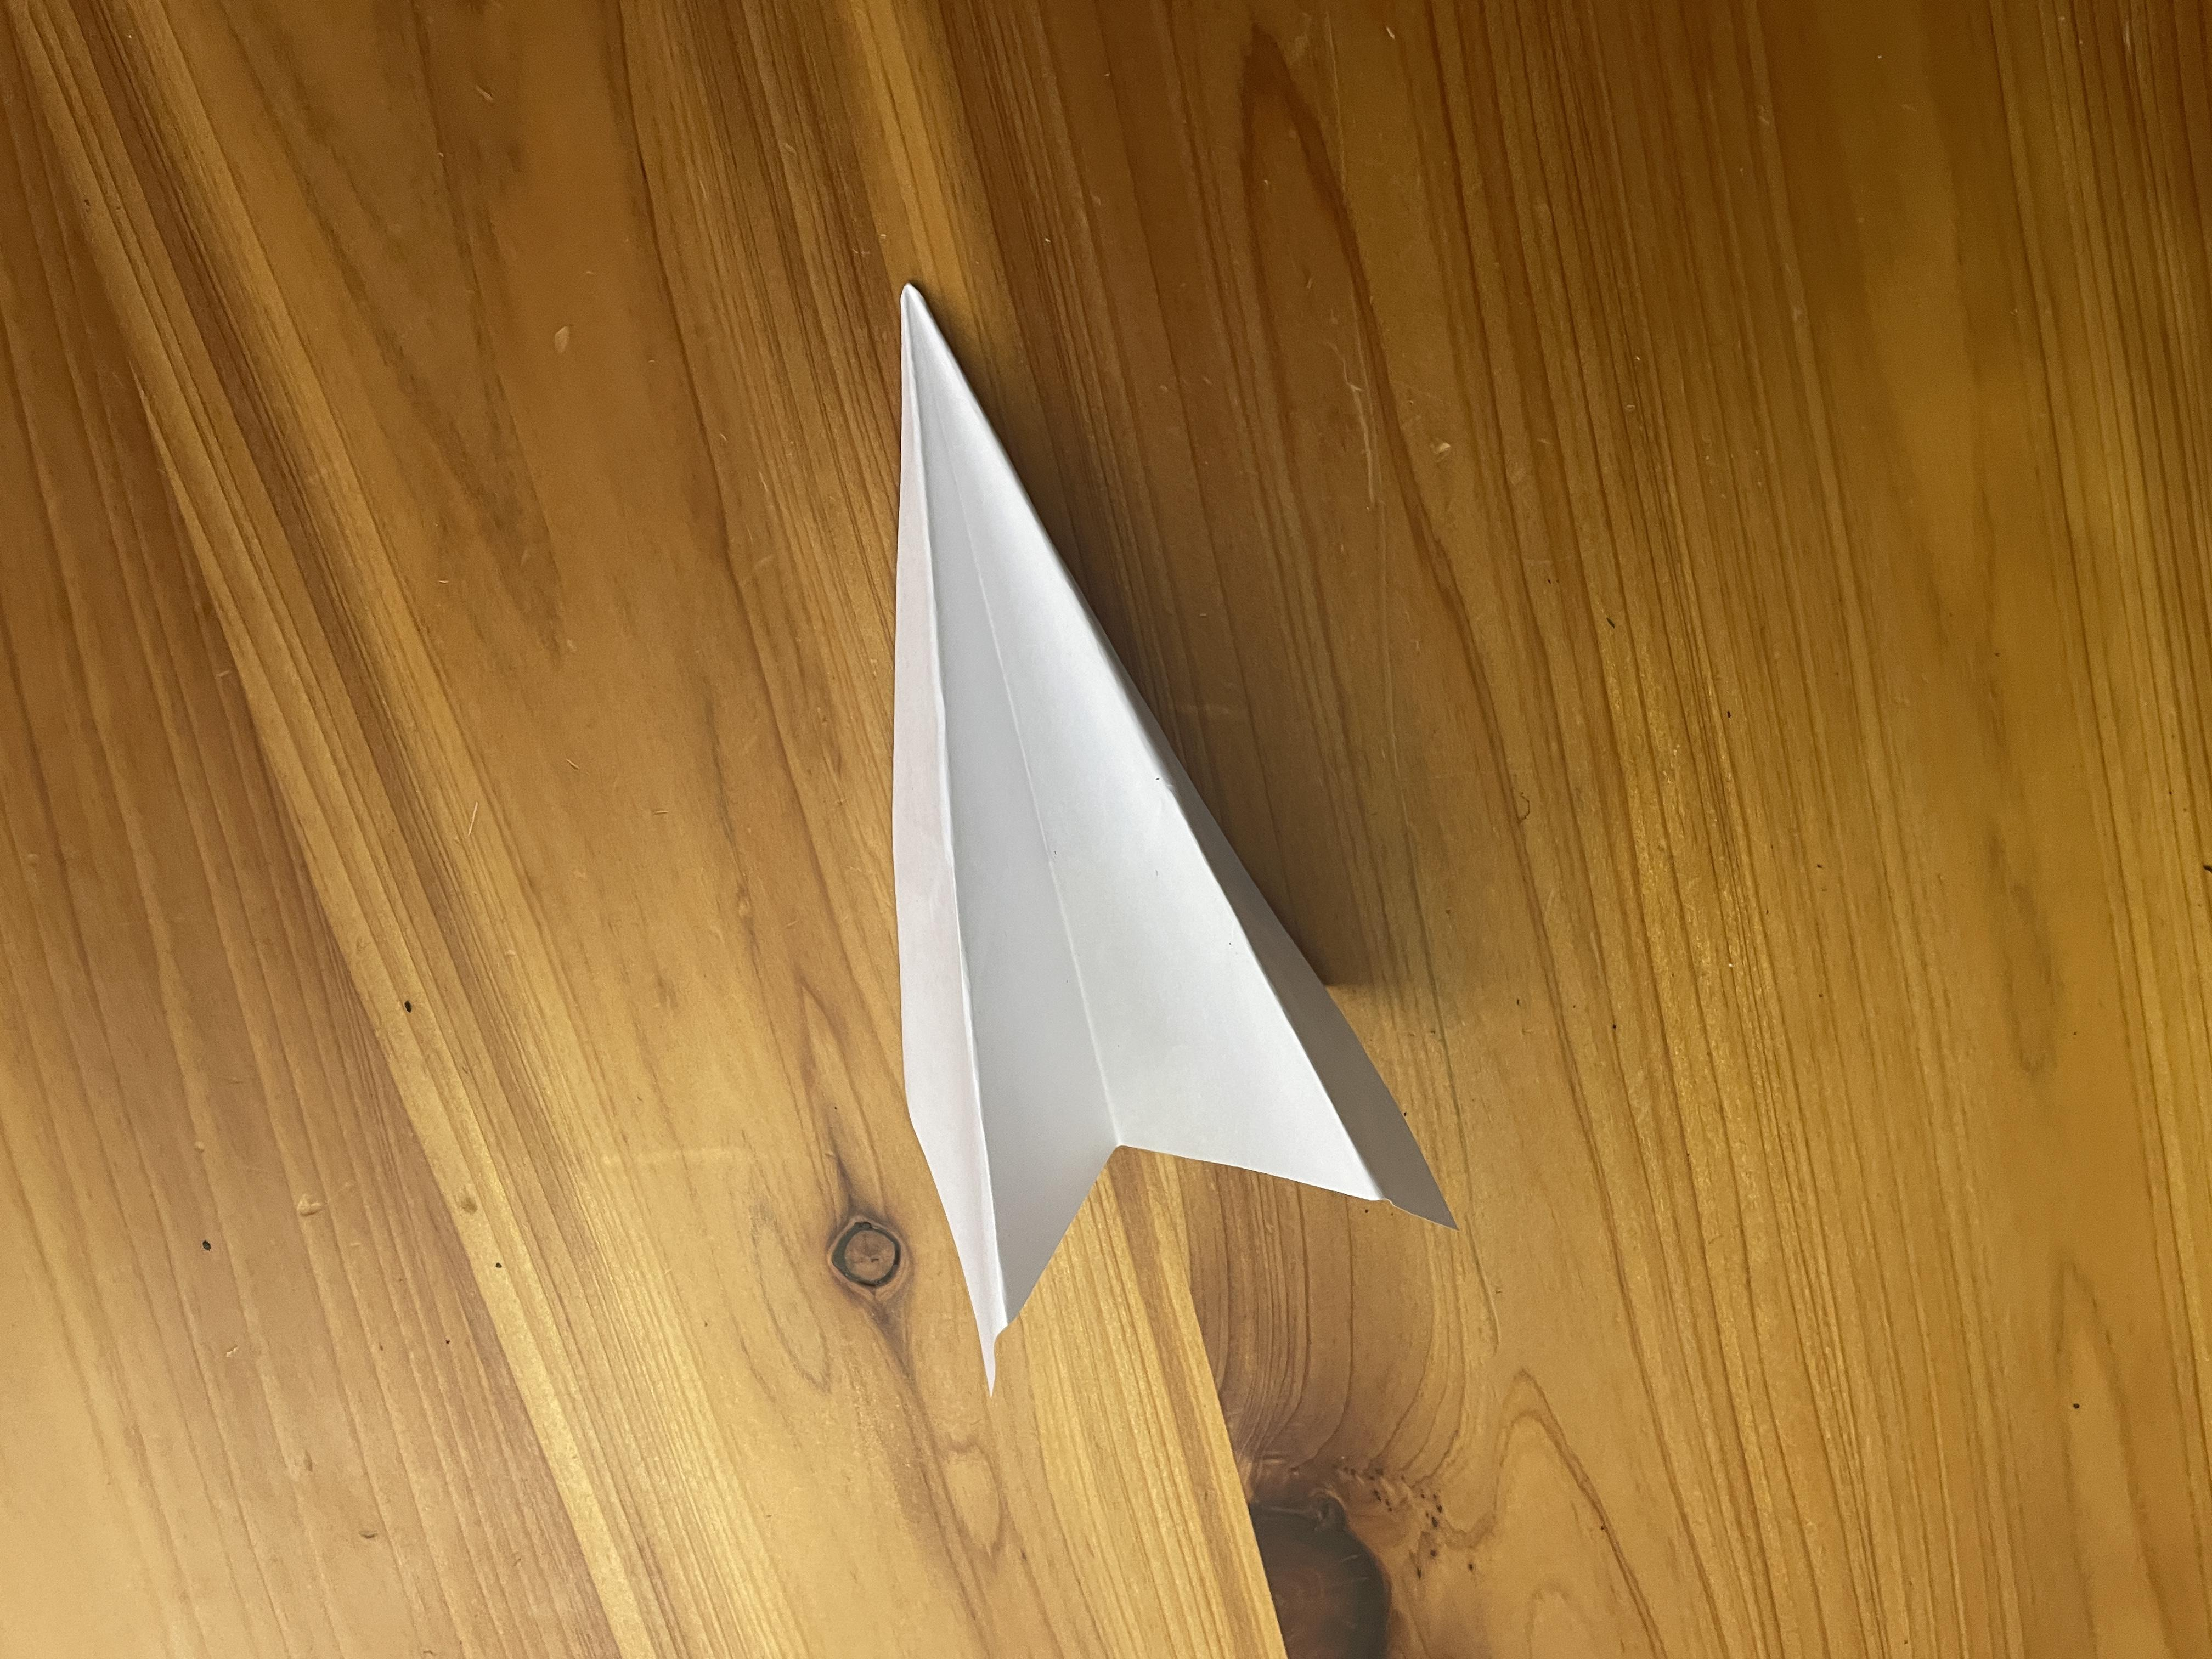shape_3: (777, 209, 1486, 1445)
